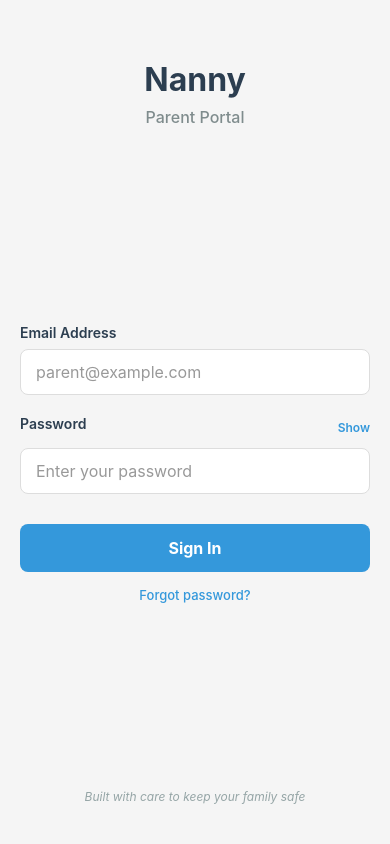
Test: LoginScreen › Validation › should show error when email is empty
In the password field with test id "password-input": (195, 470) [20,448,370,494], type "password123"
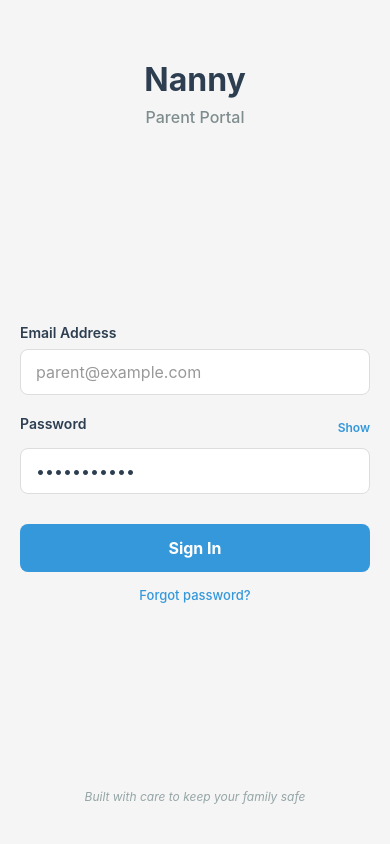
Click the element with test id "login-button": (195, 548) [20,524,370,572]
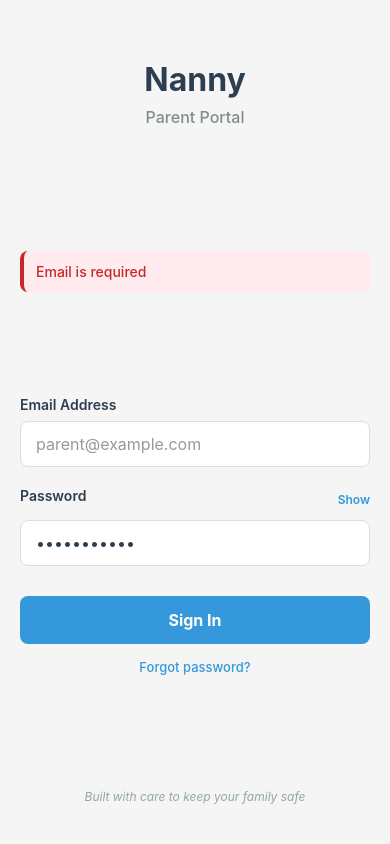
Check: the text "Email is required" is shown, box [36,263,146,280]
